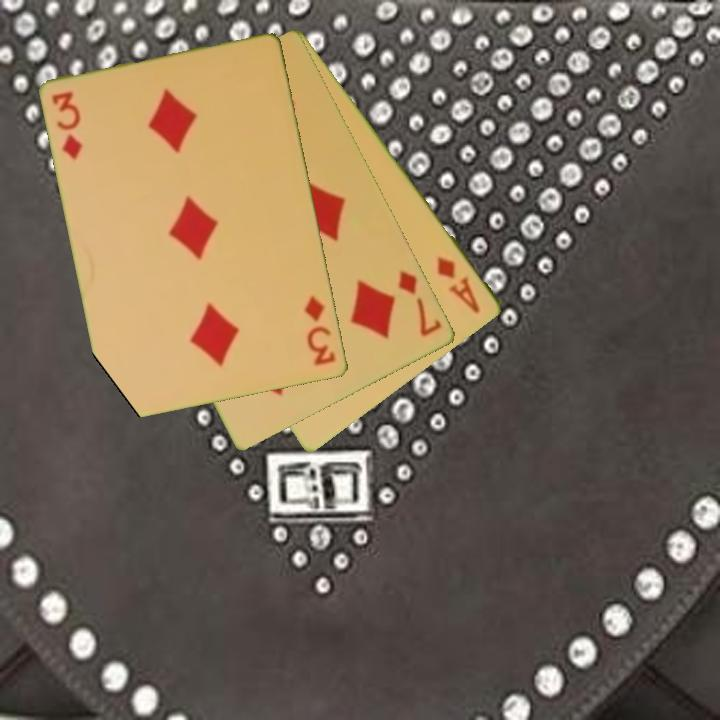3d: (301, 292, 339, 369), (48, 88, 86, 163)
7d: (395, 267, 445, 340)
Ad: (434, 252, 484, 317)
